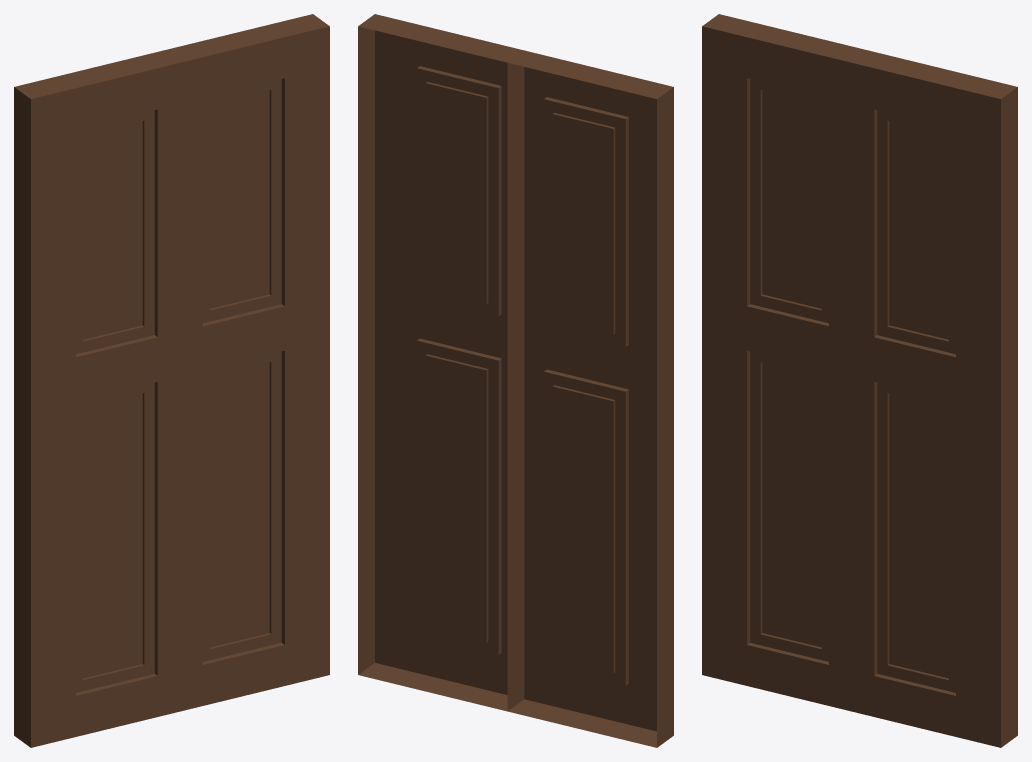
File: Door5.glb
The picture shows the model from 3 angles, left to right: view 1: azimuth 30°, elevation 25°; view 2: azimuth 150°, elevation 25°; view 3: azimuth 330°, elevation 25°; orthographic projection.
Parts seen in each view (by area): view 1: Door5; view 2: Door5; view 3: Door5.
Part boxes in pixels (<box>): Door5: <box>14,14,329,747</box>; Door5: <box>358,14,673,747</box>; Door5: <box>702,14,1017,747</box>.
Bounding box in the file's own units: 0.4409 × 0.9146 × 0.0429.
Materials: 1 (1 with a texture image).
